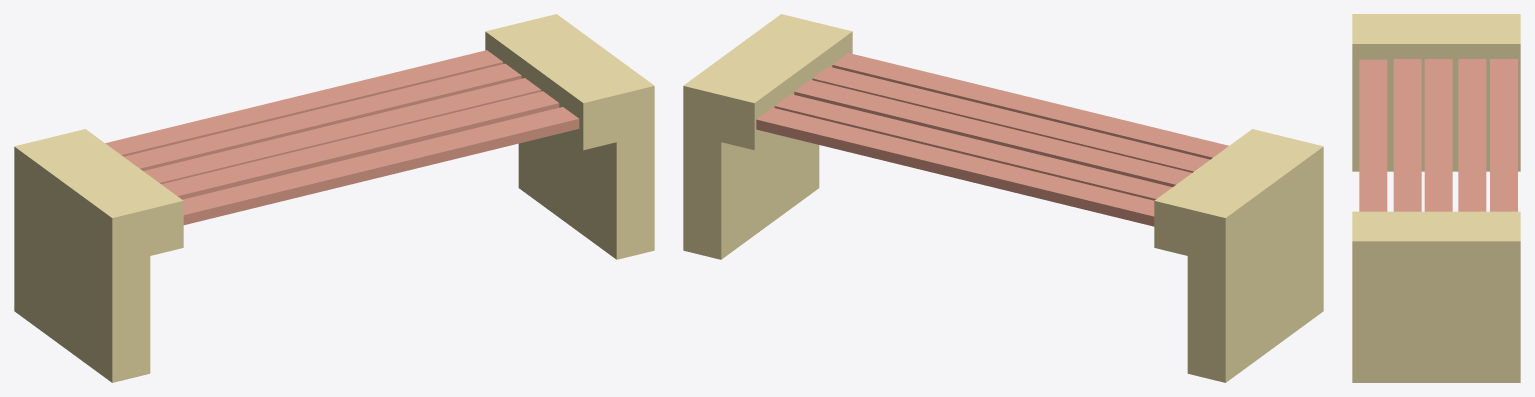
Rendered from banca.fbx.
3 views of the same model, side by side, from view 1: azimuth 30°, elevation 25°; view 2: azimuth 150°, elevation 25°; view 3: azimuth 270°, elevation 25° (orthographic). The views are drawn at different scales.
Visible parts, largest first — view 1: Cube.006; view 2: Cube.006; view 3: Cube.006.
Boxes of the visible parts, left/top/right/bottom form: Cube.006: left=14, top=14, right=654, bottom=382; Cube.006: left=683, top=14, right=1323, bottom=382; Cube.006: left=1352, top=14, right=1520, bottom=382.
Bounding box in the file's own units: 497 × 144 × 156.
